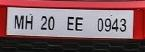0: (46, 14, 55, 30), (96, 16, 103, 32)
2: (39, 14, 47, 30)
3: (117, 16, 126, 32)
4: (110, 16, 119, 32)
9: (103, 16, 111, 32)
E: (74, 15, 83, 31), (66, 15, 74, 30)
H: (24, 13, 33, 30)
M: (12, 12, 24, 29)
